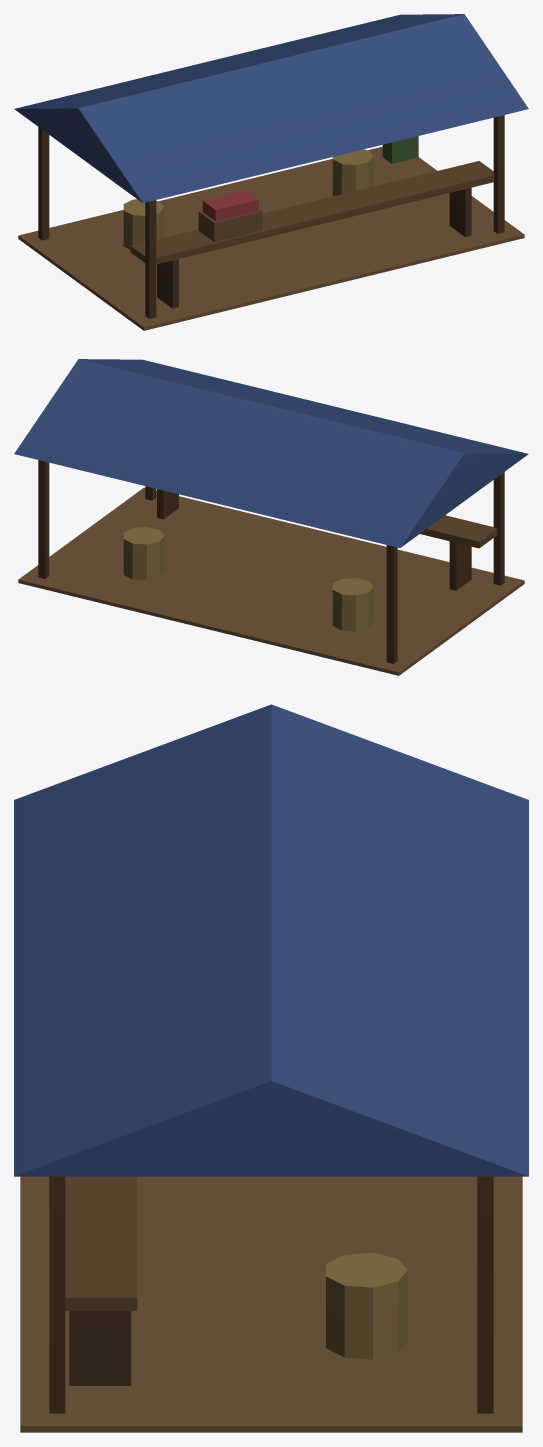
File: yard_stall_blue.glb
3 views of the same model, one above another, from view 1: azimuth 30°, elevation 25°; view 2: azimuth 150°, elevation 25°; view 3: azimuth 270°, elevation 25° (orthographic). The views are drawn at different scales.
Visible parts, largest first — view 1: prop; view 2: prop; view 3: prop.
Part boxes in pixels (box(x1,y1,x2,y2)): prop: box(14, 14, 528, 330); prop: box(14, 359, 528, 675); prop: box(14, 704, 528, 1432).
Size of the model in its own units: 7.18 by 3.15 by 4.15.
